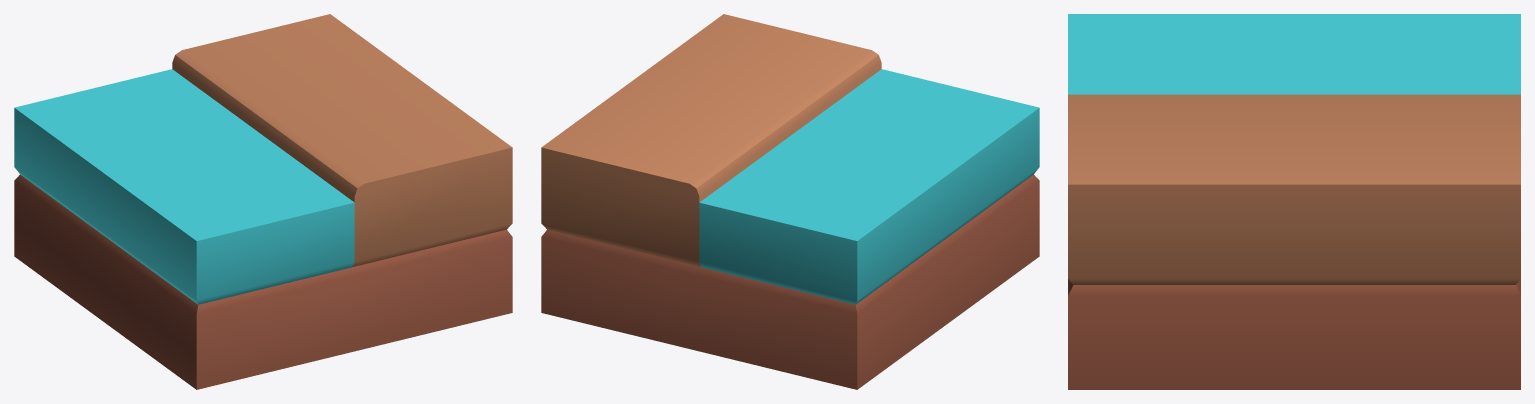
Rendered from square_rock_waterStraight.glb.
The picture shows the model from 3 angles, left to right: view 1: azimuth 30°, elevation 25°; view 2: azimuth 150°, elevation 25°; view 3: azimuth 270°, elevation 25°; orthographic projection. The views are drawn at different scales.
Visible parts, largest first — view 1: square_rock_waterStraight; view 2: square_rock_waterStraight; view 3: square_rock_waterStraight.
Part boxes in pixels (box(x1,y1,x2,y2)): square_rock_waterStraight: box(14, 14, 512, 389); square_rock_waterStraight: box(541, 14, 1039, 389); square_rock_waterStraight: box(1068, 14, 1520, 389).
Size of the model in its own units: 2 by 1 by 2.
